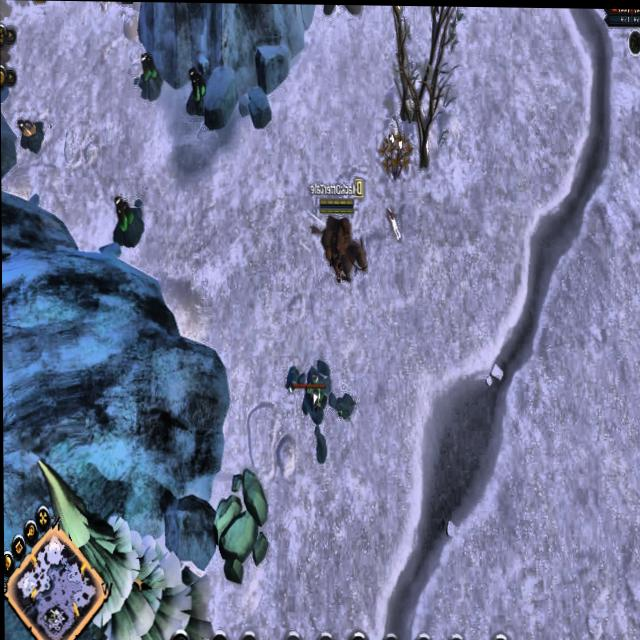copperore: (15, 108, 47, 154)
sandstone: (209, 465, 272, 584)
tinore: (108, 193, 146, 253), (136, 49, 164, 103), (183, 66, 208, 119)
